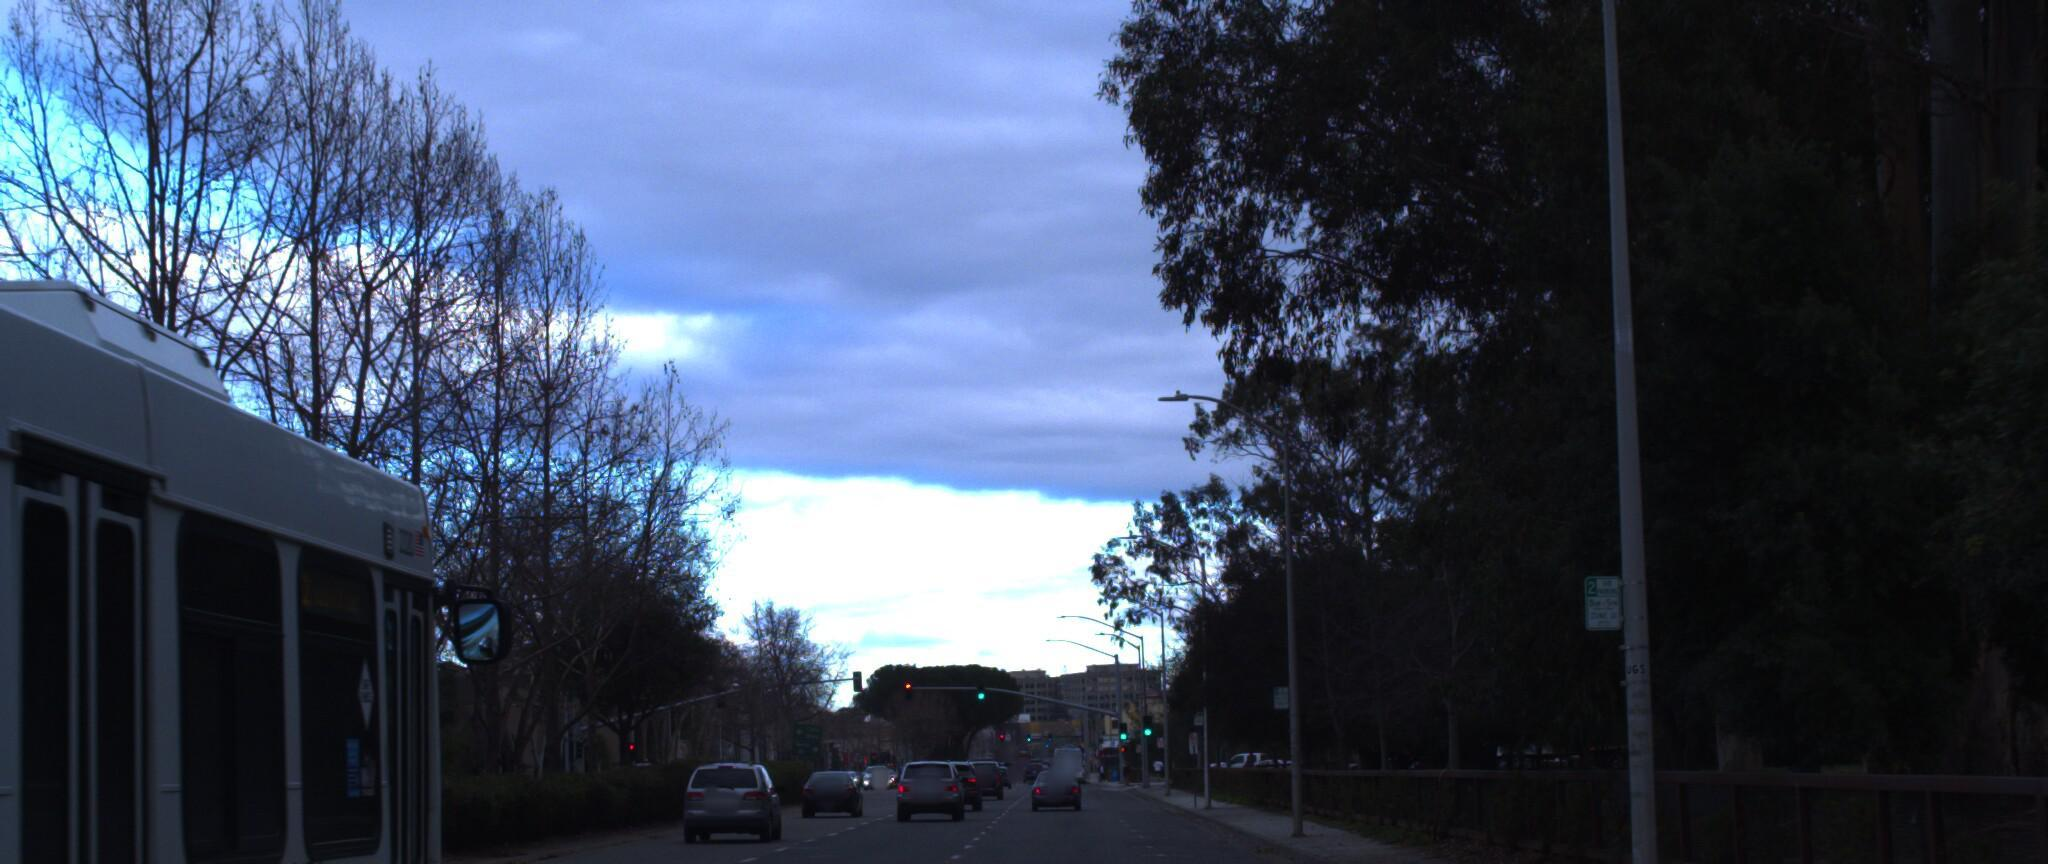car: (671, 750, 795, 848)
